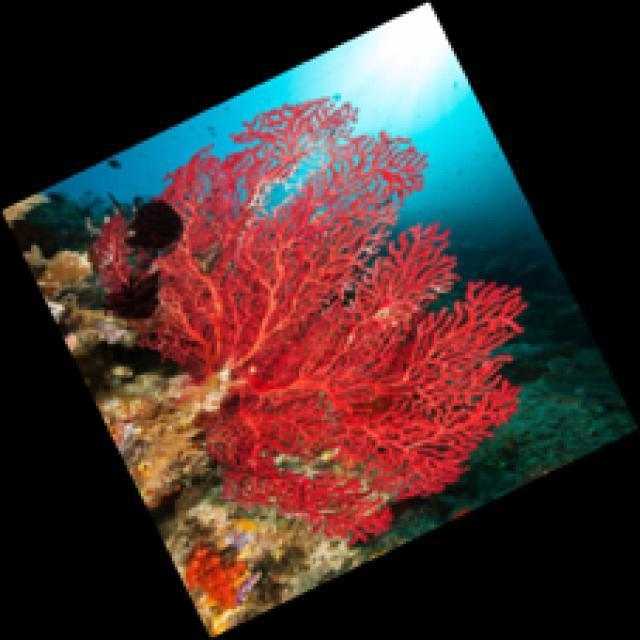Healthy: (90, 97, 525, 545)
